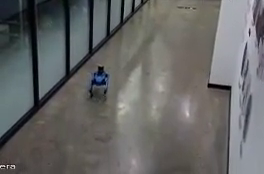robot dog: (87, 63, 110, 101)
